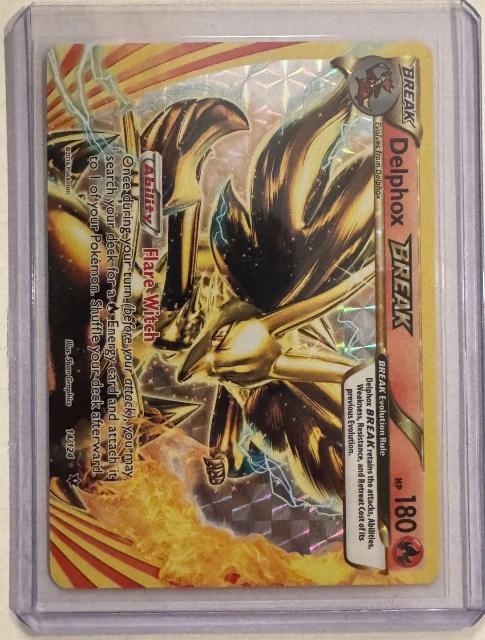Card: (43, 37, 445, 592)
Name: (388, 130, 416, 337)
